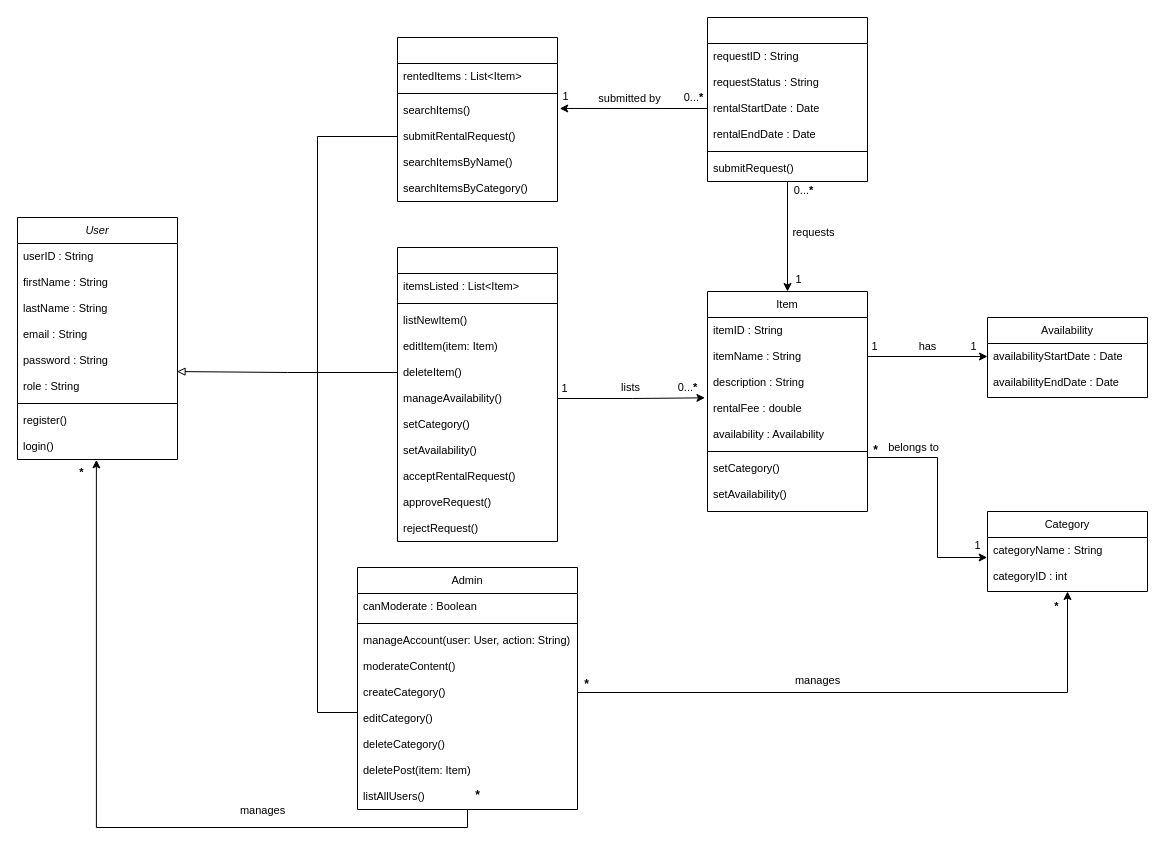
The diagram is 1165 pixels wide and 853 high, and some of its shapes have lost their labels. The shapes that lost their labels are listed below. From the top down, each one's box as (x1, y1, x2, y2) in pixels, then its label:
(396, 36, 558, 202): Renter
(706, 16, 868, 182): RentalRequest
(396, 246, 558, 542): Lessor
